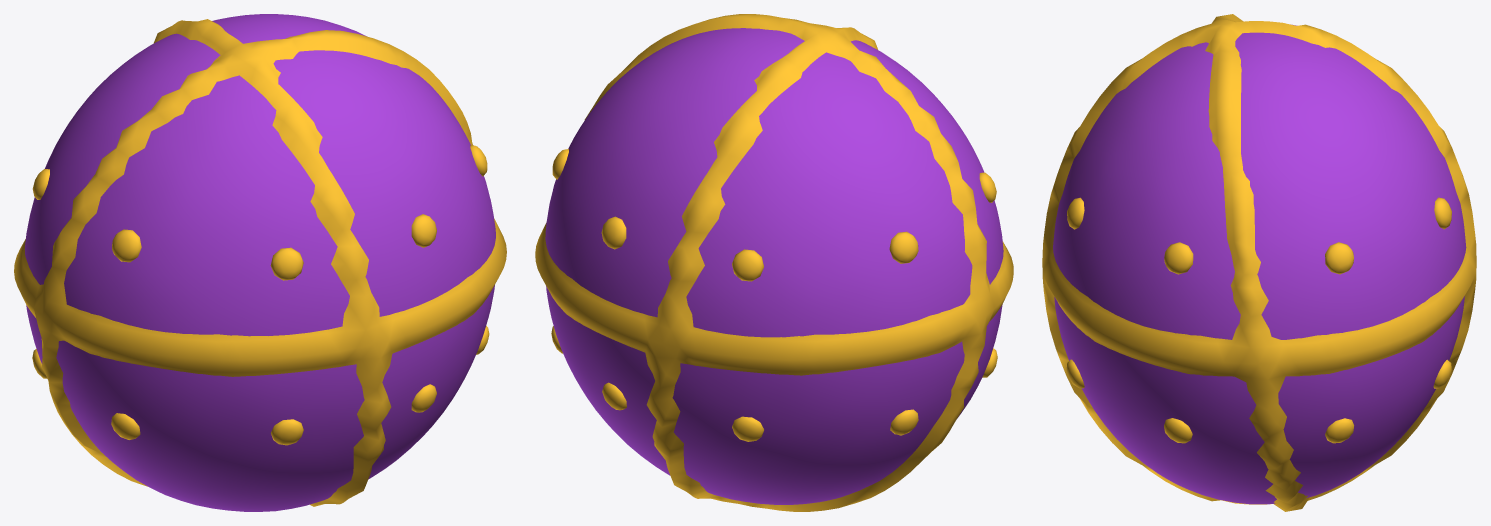
Rendered from RockRoyal.fbx.
3 renders of one model, left to right at view 1: azimuth 30°, elevation 25°; view 2: azimuth 150°, elevation 25°; view 3: azimuth 270°, elevation 25°, orthographic. The views are drawn at different scales.
Parts seen in each view (by area): view 1: RockRoyal_Body, RockRoyal_Gold; view 2: RockRoyal_Body, RockRoyal_Gold; view 3: RockRoyal_Body, RockRoyal_Gold.
Boxes of the visible parts, left/top/right/bottom form: RockRoyal_Body: left=24, top=14, right=495, bottom=511; RockRoyal_Gold: left=14, top=19, right=506, bottom=506; RockRoyal_Body: left=545, top=28, right=1003, bottom=504; RockRoyal_Gold: left=535, top=14, right=1013, bottom=511; RockRoyal_Body: left=1053, top=24, right=1466, bottom=504; RockRoyal_Gold: left=1042, top=14, right=1476, bottom=511.
Size of the model in its own units: 208 by 215 by 187.
